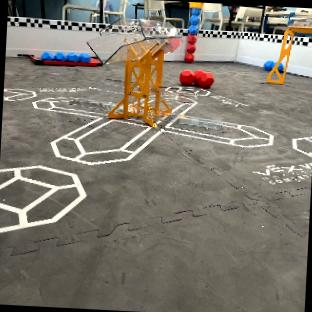Goal: (266, 24, 312, 83)
Med_goal: (104, 18, 180, 127)
Parking-R: (18, 53, 102, 65)
V5_BLUE: (40, 51, 91, 62), (188, 7, 198, 34), (263, 60, 274, 70)
V5_RED: (178, 69, 212, 88), (165, 38, 179, 51)
